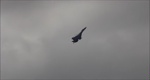maybay_muctieu: (72, 25, 88, 47)
